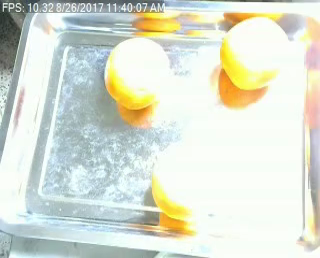Orange: (221, 16, 290, 89)
